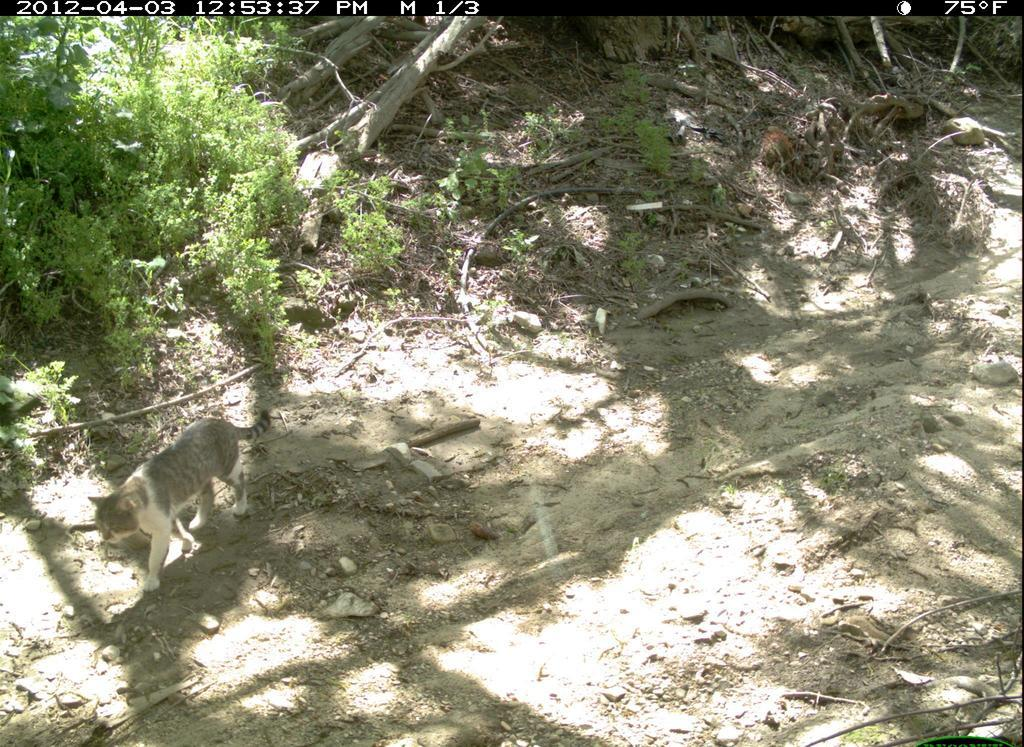cat: (85, 395, 277, 596)
